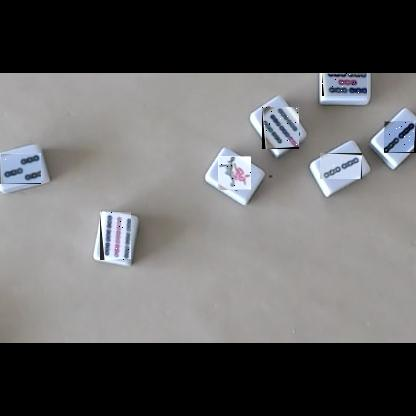1s: (218, 156, 251, 190)
2s: (320, 153, 362, 179), (384, 121, 416, 153)
3s: (0, 153, 41, 184)
5s: (322, 73, 367, 96)
7s: (262, 107, 299, 149)
9s: (100, 212, 131, 260)
